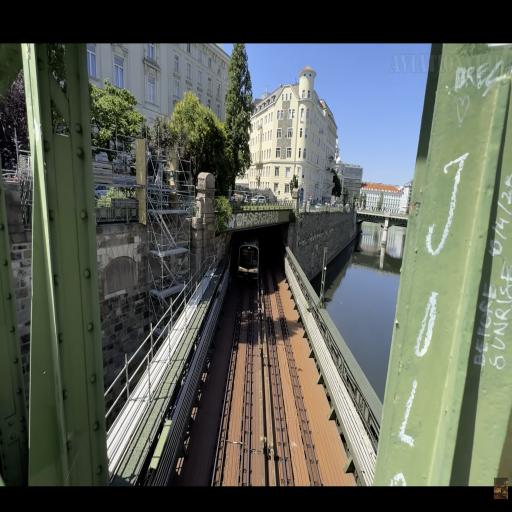V-Wagen: (235, 237, 263, 286)
